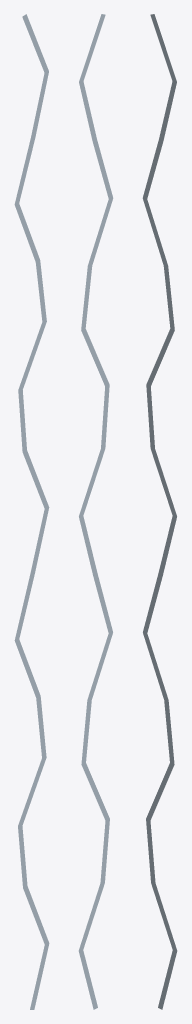
Rendered from Keqing_StarwardSword_Full_OpeningFineArc0.fbx.
3 renders of one model, left to right at view 1: azimuth 30°, elevation 25°; view 2: azimuth 210°, elevation 25°; view 3: azimuth 330°, elevation 25°, orthographic.
Parts seen in each view (by area): view 1: PART_OpeningFineArc0; view 2: PART_OpeningFineArc0; view 3: PART_OpeningFineArc0.
Boxes of the visible parts, x1=… form: PART_OpeningFineArc0: x1=14, y1=14, x2=49, y2=1009; PART_OpeningFineArc0: x1=78, y1=14, x2=113, y2=1009; PART_OpeningFineArc0: x1=142, y1=14, x2=177, y2=1009.
Bounding box in the file's own units: 18.08 × 495 × 8.07e-05.
